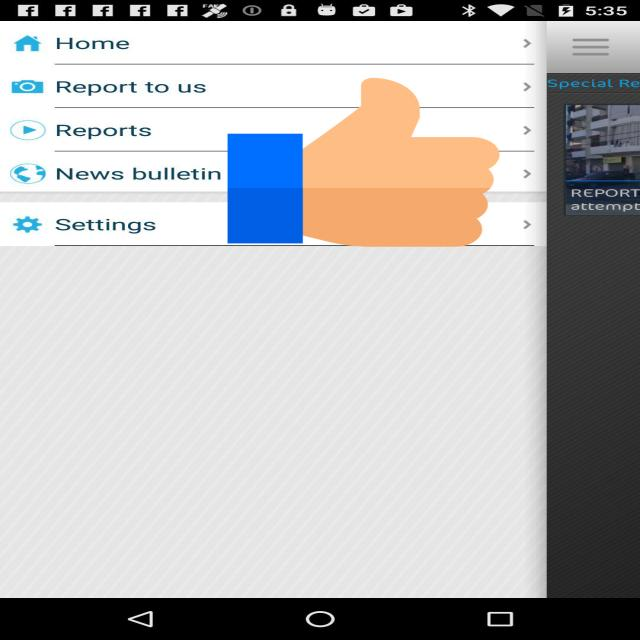privacy zuckering: (228, 74, 500, 251)
